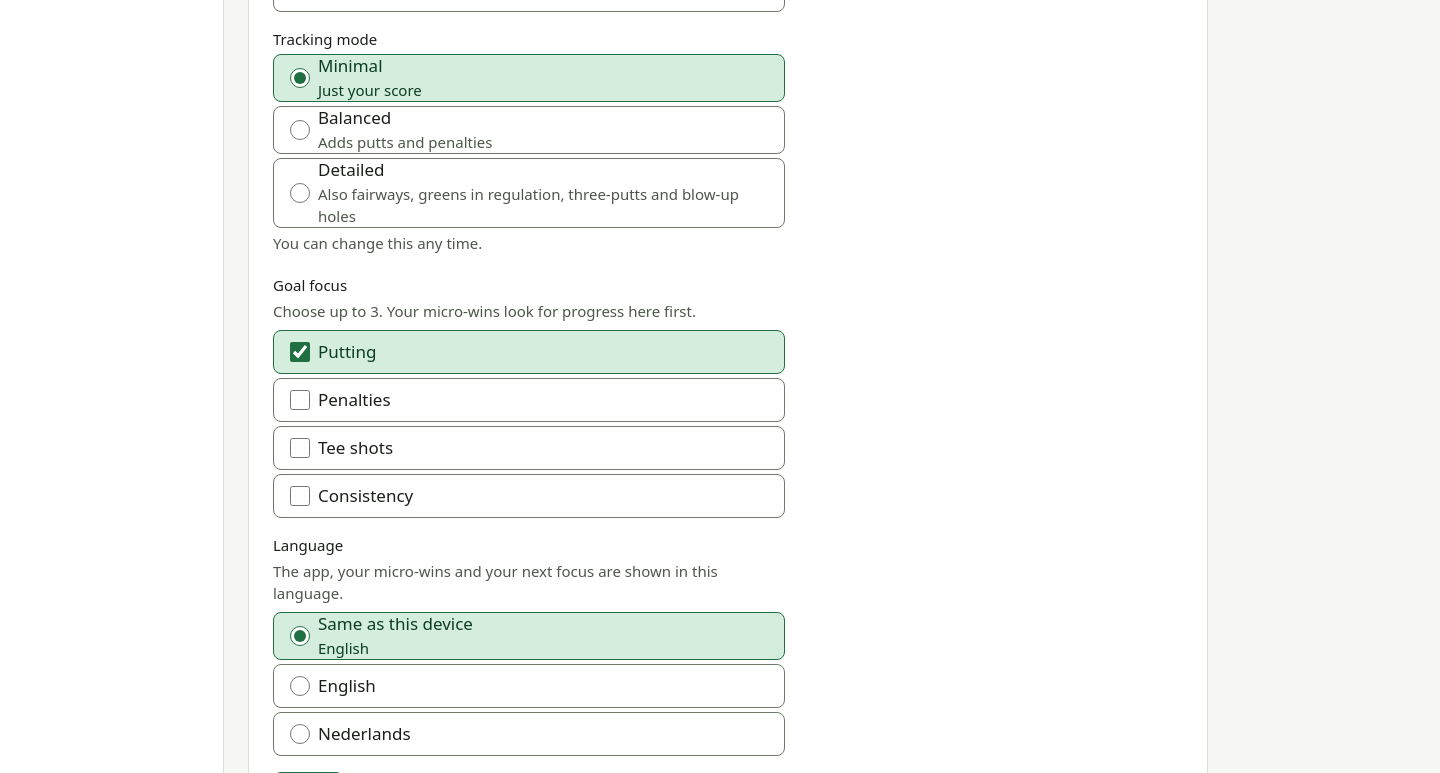
Test: profile (#111) › allows three goal focus areas at most
(page scrolled)
Click the checkbox labelled "Penalties" at (300, 400), box [290,390,310,410]
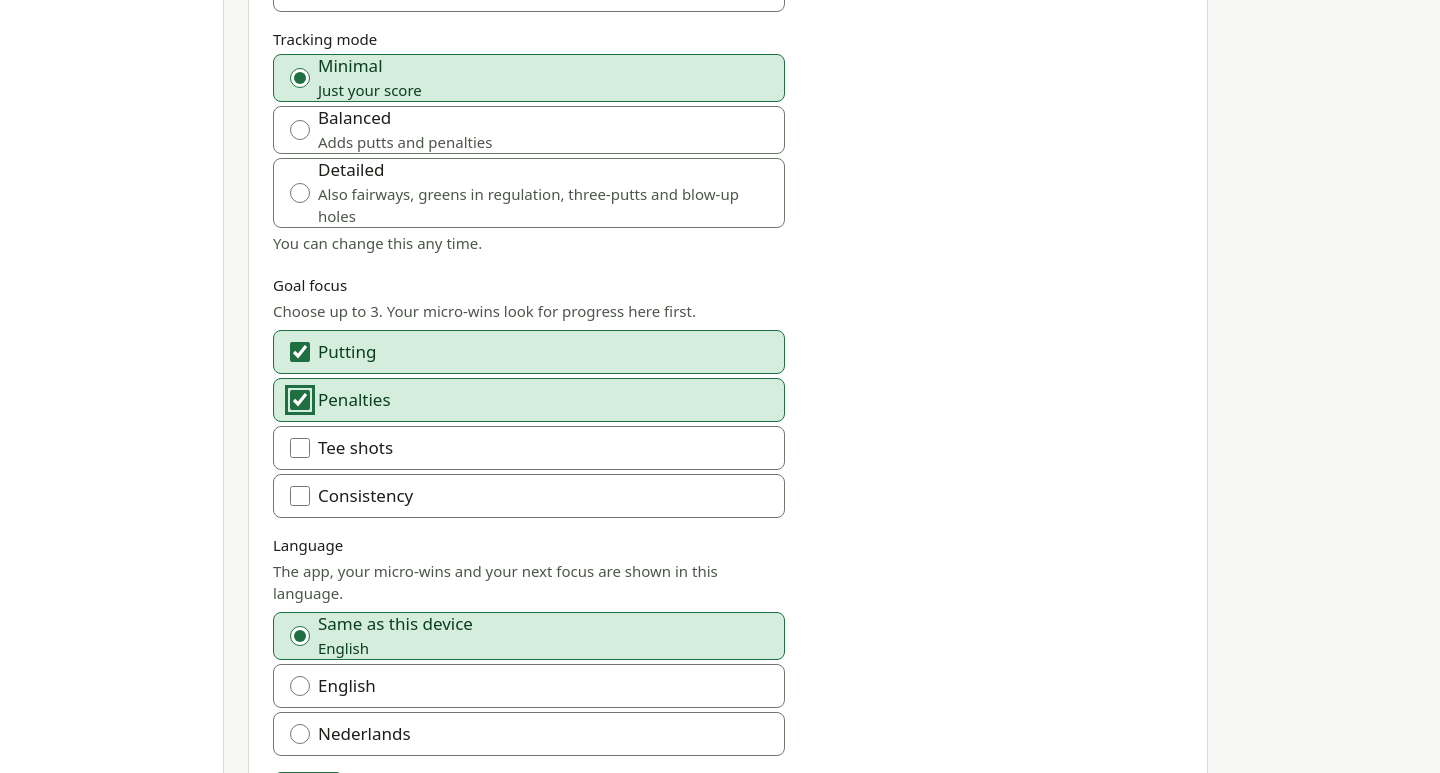
Click the checkbox labelled "Tee shots" at (300, 448), box [290,438,310,458]
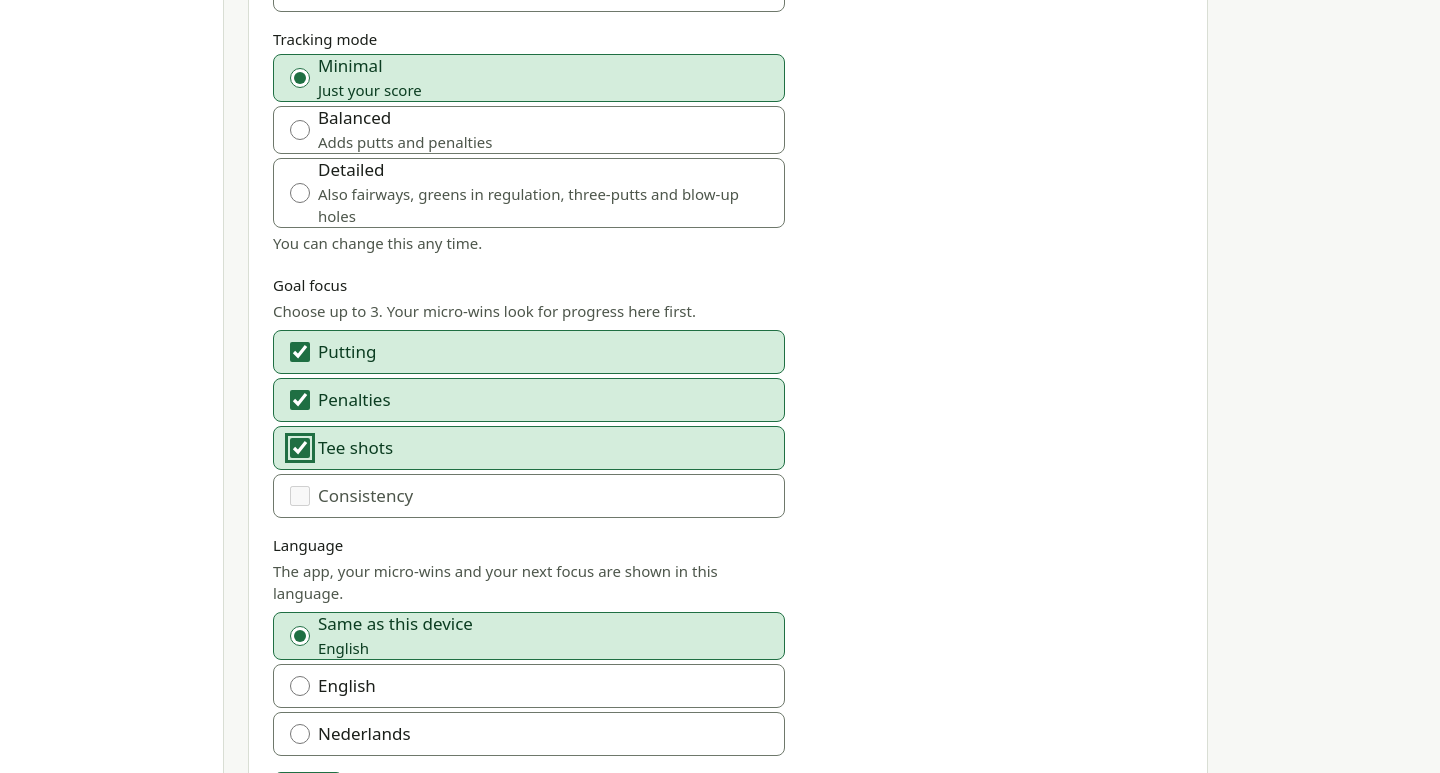
expect the checkbox labelled "Consistency" is disabled: met, box [290,486,310,506]
Click the checkbox labelled "Putting" at (300, 352), box [290,342,310,362]
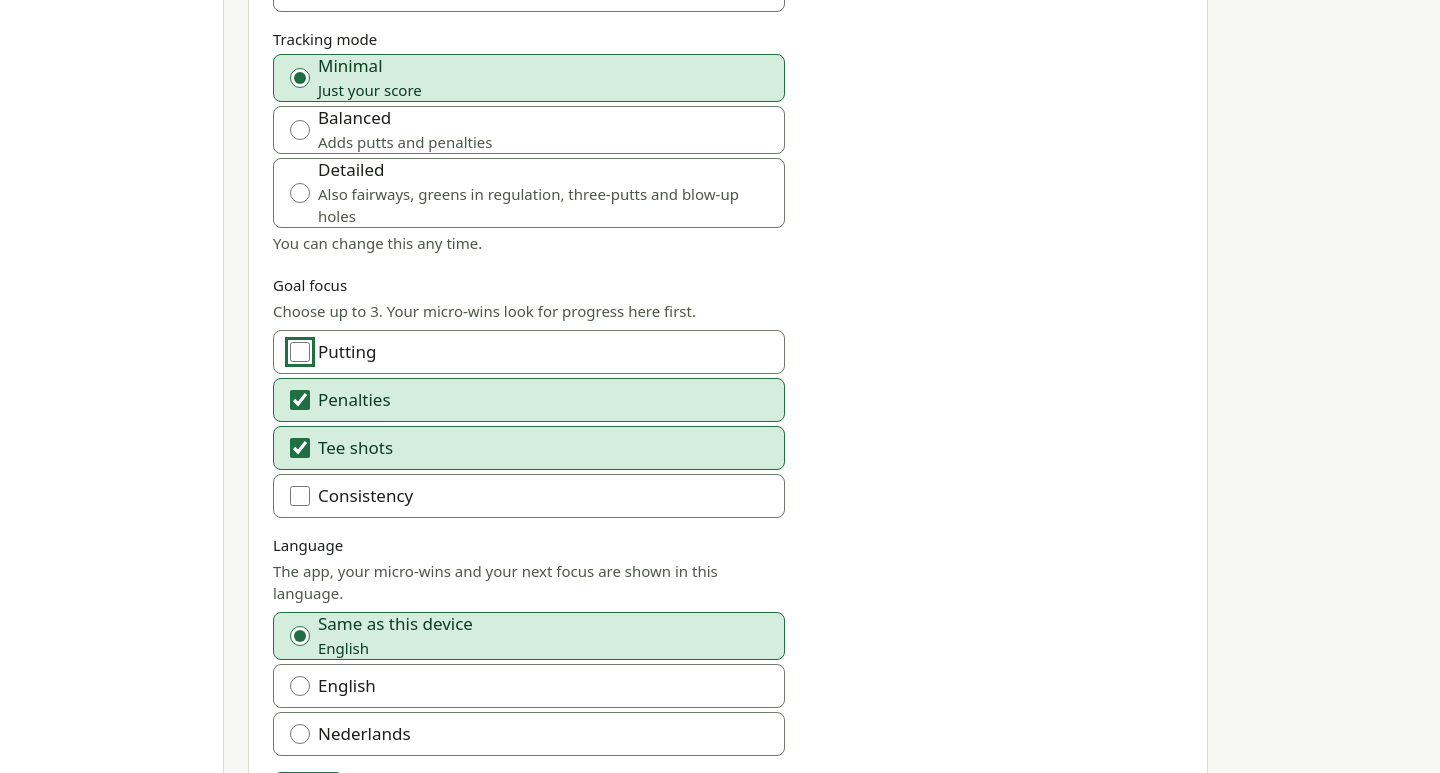
expect the checkbox labelled "Consistency" is enabled: met, box [290,486,310,506]
